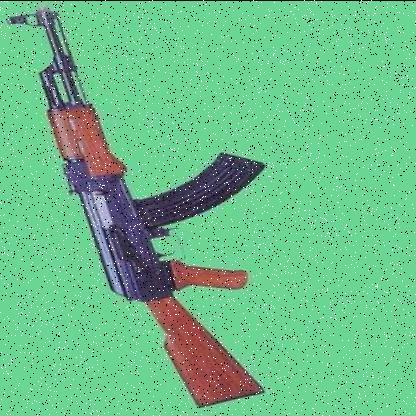rifle: (6, 6, 301, 408)
